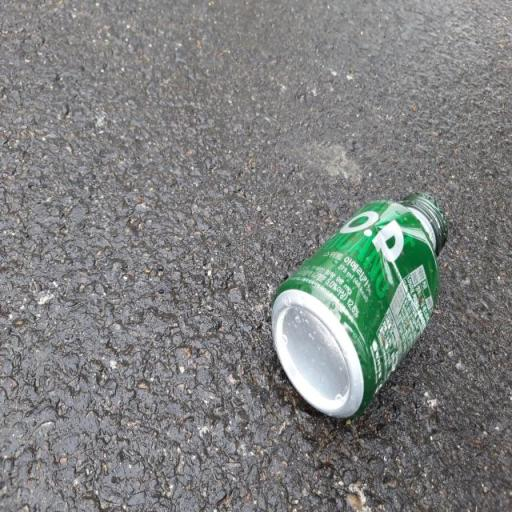metal: (253, 182, 469, 416)
